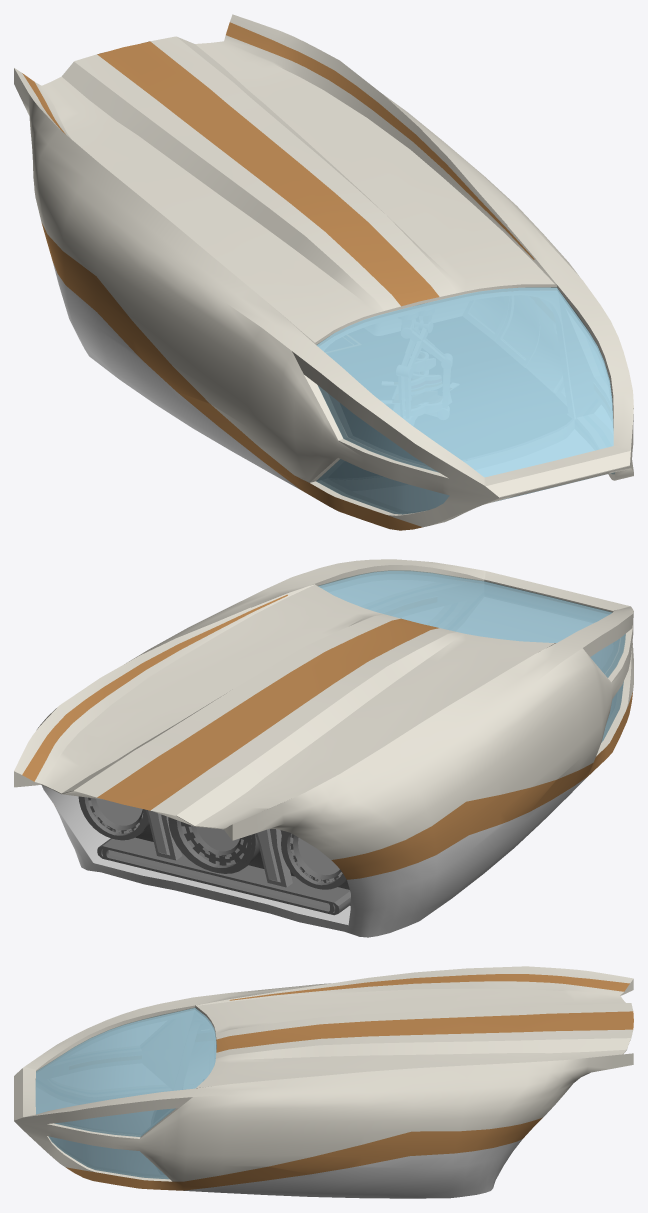
Rendered from Shuttle2.4.fbx.
3 renders of one model, top to bottom at view 1: azimuth 30°, elevation 25°; view 2: azimuth 150°, elevation 25°; view 3: azimuth 270°, elevation 25°, orthographic. The views are drawn at different scales.
Visible parts, largest first — view 1: Shuttle.001; view 2: Shuttle.001; view 3: Shuttle.001.
Boxes of the visible parts, box(x1,y1,x2,y2) form: Shuttle.001: box(14, 14, 633, 530); Shuttle.001: box(14, 559, 633, 937); Shuttle.001: box(14, 966, 633, 1198).
Bounding box in the file's own units: 2164 × 1009 × 4452.
